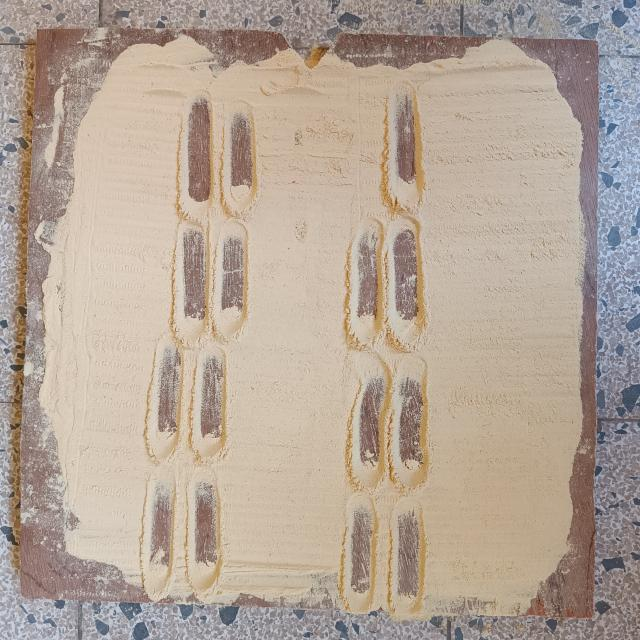double: (343, 210, 431, 365), (344, 362, 436, 500), (140, 464, 230, 605), (142, 337, 235, 472), (170, 92, 264, 221), (336, 497, 430, 624), (170, 218, 252, 344)
single: (377, 76, 432, 216)
